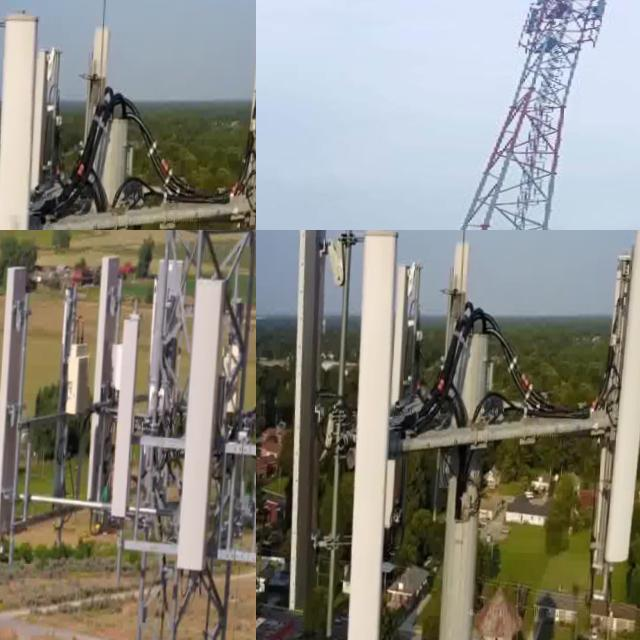GSM Antenna: (324, 230, 415, 640), (268, 230, 341, 624), (175, 260, 232, 593), (596, 230, 640, 579), (0, 3, 54, 230), (82, 257, 123, 507), (596, 248, 626, 583), (385, 257, 421, 534), (0, 265, 33, 552), (48, 282, 87, 524), (110, 310, 148, 535), (22, 29, 64, 230), (233, 38, 256, 230), (445, 236, 472, 385), (89, 23, 113, 153), (592, 0, 613, 26), (526, 7, 541, 37), (536, 0, 551, 8)
